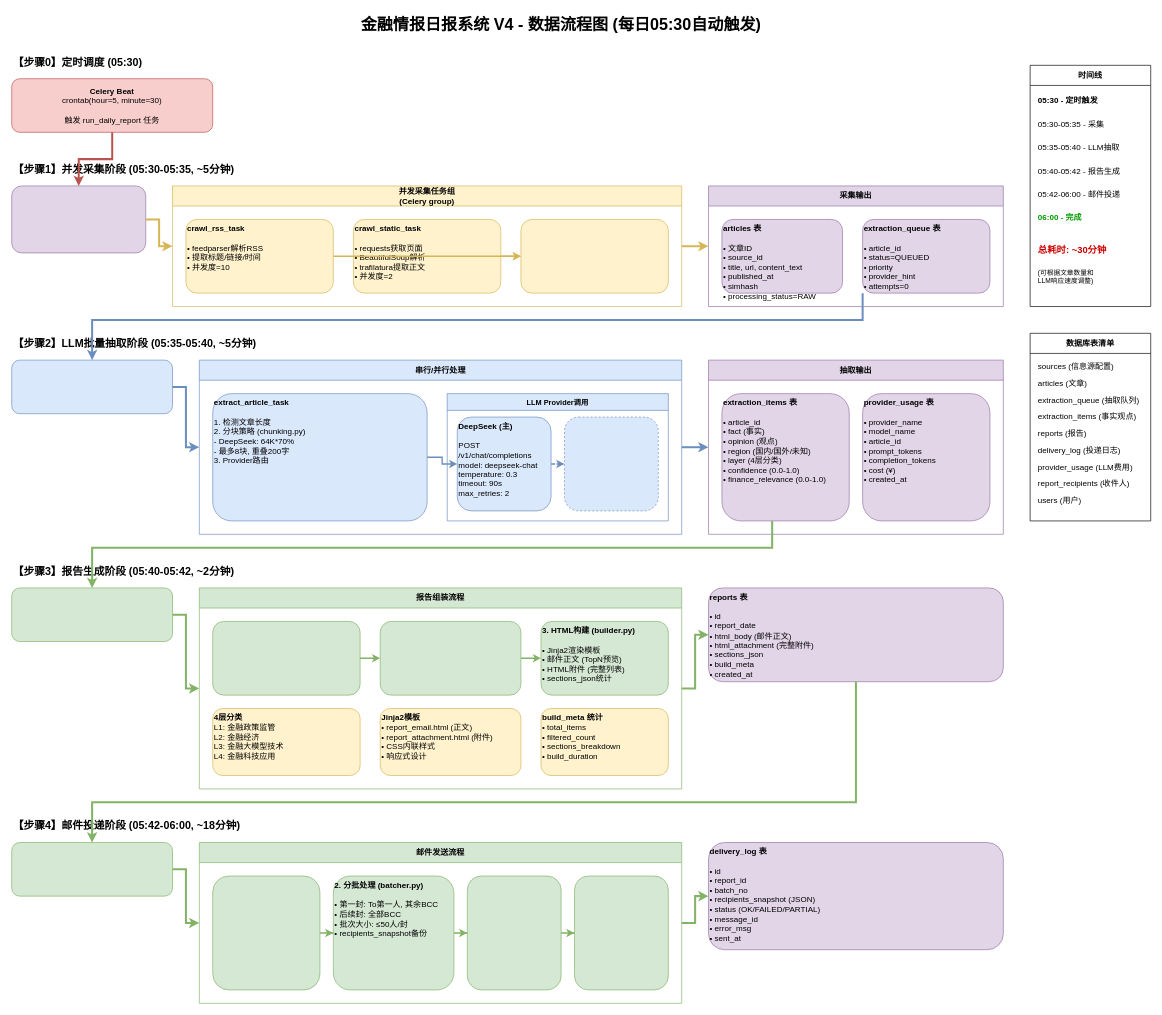
Some shapes in this 1162 by 1015 pixel diagram are drawn without their labels. Each missing label, with the centre of its shape:
1. 读取收件人 • report_recipients • type=WHITELIST+RECIPIENT • enabled=true • 白名单复合约束: (x=266, y=932)
1. 过滤与评分 (scorer.py) • 置信度 >= 0.6 • 金融相关性过滤 • 最小内容长度 >= 120字 • 去除低质量条目: (x=286, y=658)
2. 分区排序 • region × layer = 8个分区 - 国内: 4层 - 国外: 4层 • 按置信度降序排序 • 选取TopN (默认5条/分区): (x=450, y=658)
3. SMTP发送 • aiosmtplib异步 • SSL连接 (465端口) • 节流: 1封/秒 • 失败重试 (最多2次) • 指数退避: (x=514, y=932)
4. 记录投递日志 • delivery_log • message_id • status (OK/FAILED) • error_msg: (x=621, y=932)
build_report_task 读取 extraction_items 按 report_date 过滤: (x=92, y=614)
Qwen (备) POST /v1/chat/completions model: qwen-max 自动回退 (超时/HTTP错误): (x=611, y=463)
run_extraction_batch 读取 extraction_queue status=QUEUED: (x=92, y=386)
send_report_task 读取 reports 表 按 report_date 查询: (x=92, y=869)
SimHash去重 • jieba分词 • 64位Hash • 汉明距离≤3判重: (x=594, y=256)
sources 表 (PostgreSQL) enabled=true 的信息源 type: RSS/STATIC/DYNAMIC: (x=78, y=219)
